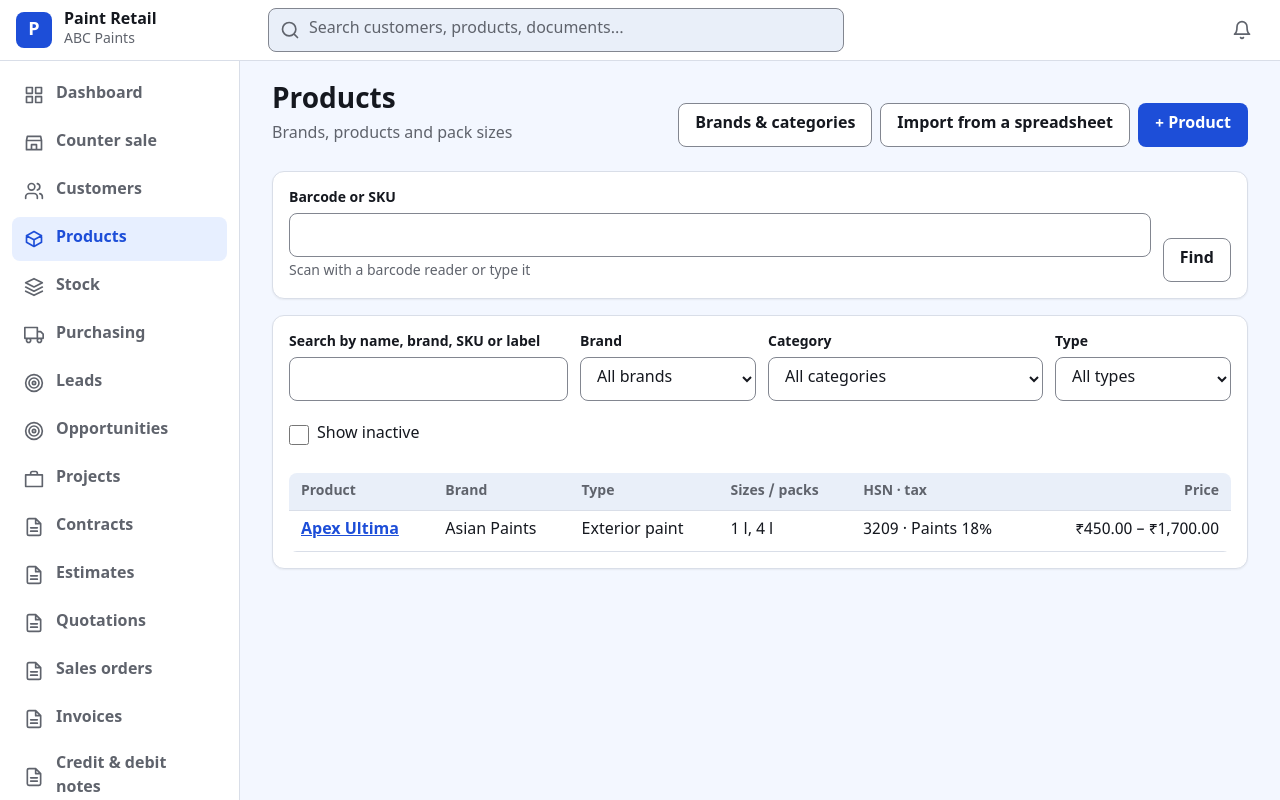
Test: barcode lookup › says when no product has the code, or the lookup fails
Type "NOPE" into the search field labelled "Barcode or SKU" at (720, 235), box top-left (289, 213), bottom-right (1151, 257)
Then press Enter
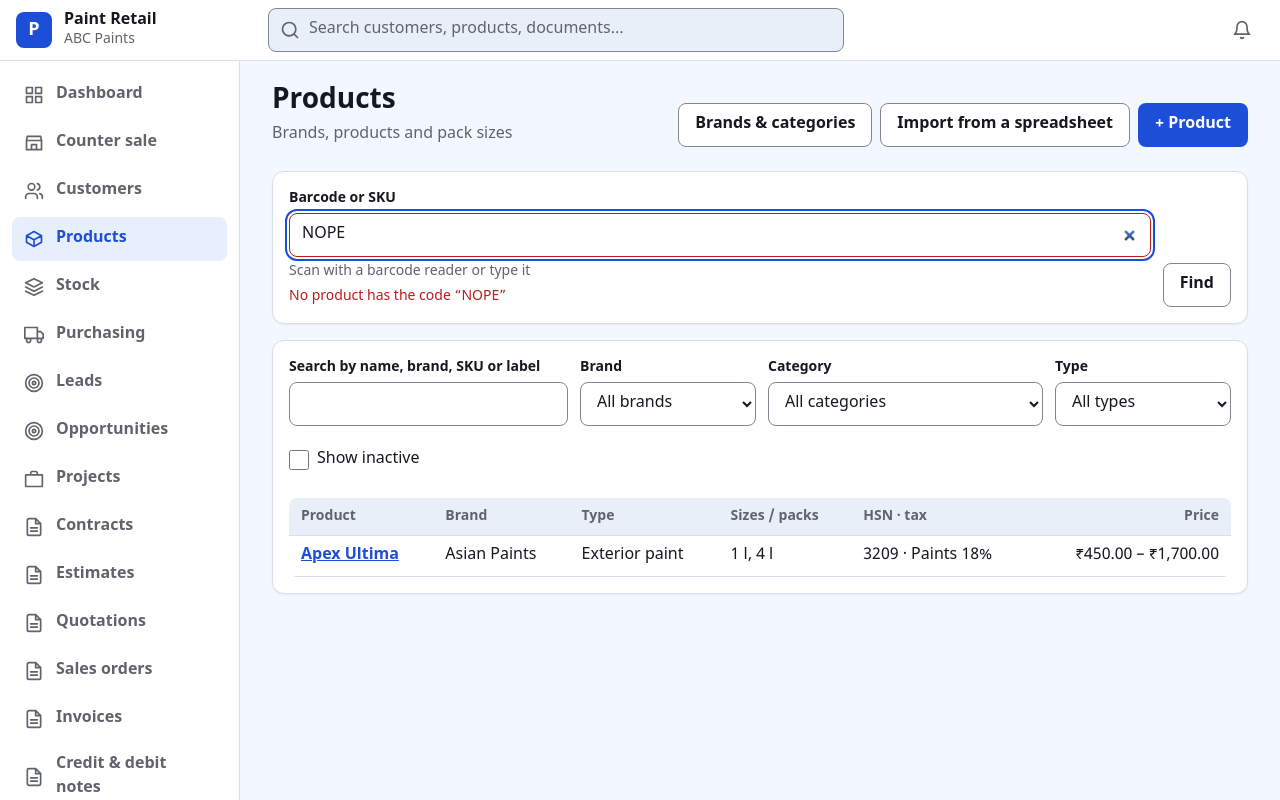
Now the text "No product has the code “NOPE”" is shown, box top-left (289, 287), bottom-right (506, 306)
Click the button "Find" at (1197, 285), box top-left (1163, 263), bottom-right (1231, 307)
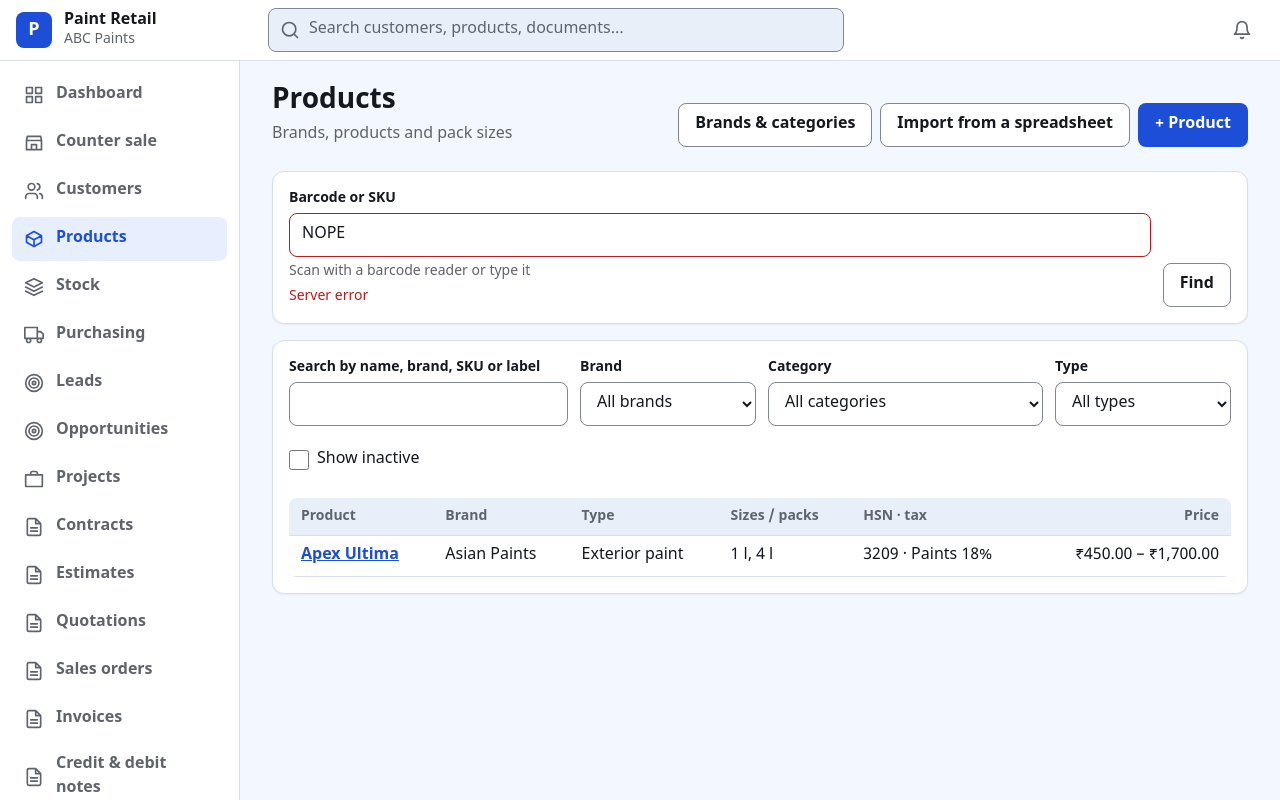
Now the text "Server error" is shown, box top-left (289, 287), bottom-right (368, 306)
